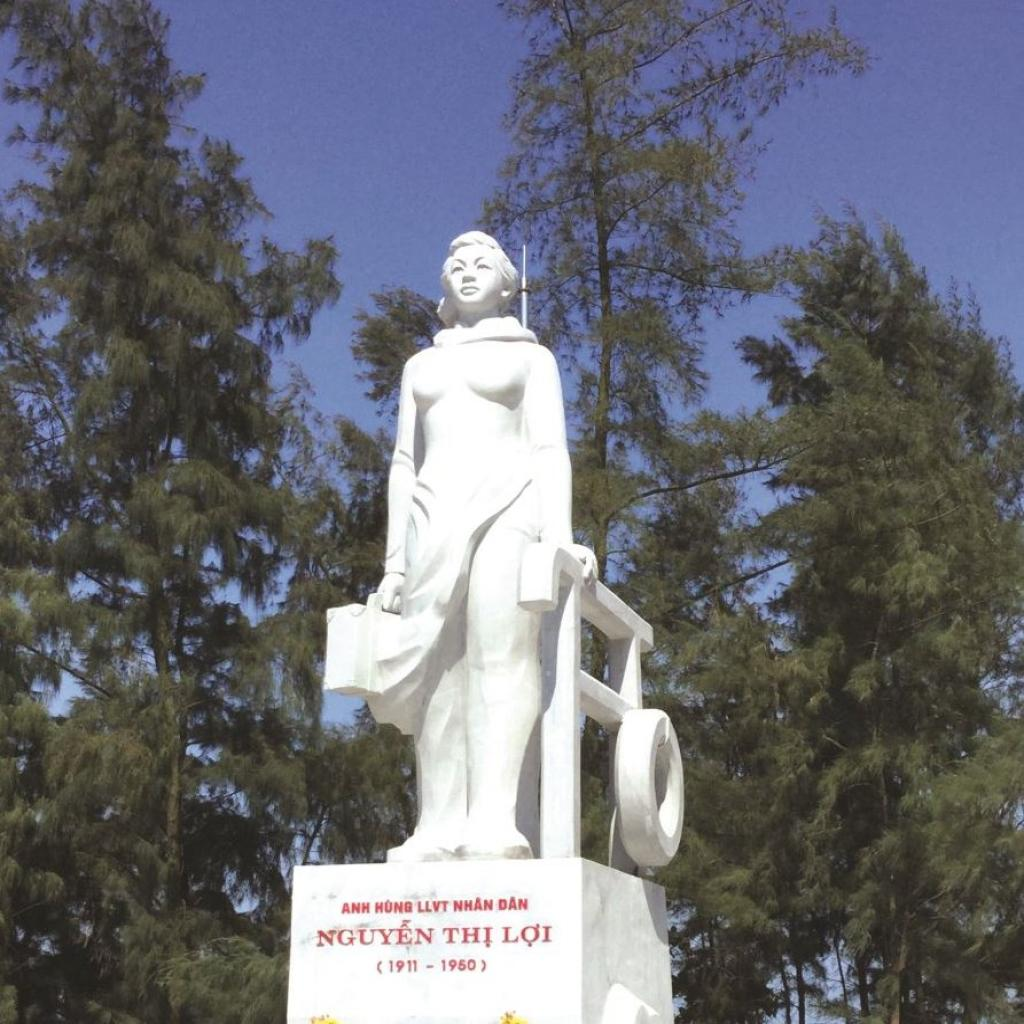text: (314, 917, 438, 950), (498, 921, 557, 949), (439, 922, 497, 950), (452, 894, 495, 914), (373, 898, 416, 916), (440, 956, 480, 975), (496, 894, 531, 914), (387, 957, 421, 976), (339, 900, 374, 917), (415, 898, 451, 914), (374, 959, 386, 977), (423, 962, 437, 970)
